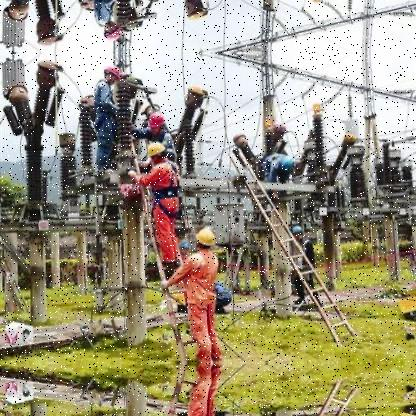Helmet: (196, 224, 220, 254), (146, 108, 170, 134), (100, 14, 120, 44), (100, 65, 124, 86), (148, 144, 170, 165), (291, 224, 305, 240)
